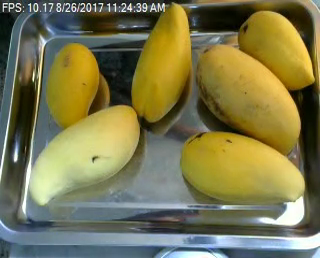Mango: (196, 45, 300, 154), (27, 105, 139, 204), (182, 132, 305, 201), (132, 4, 190, 121), (239, 11, 316, 89), (44, 43, 99, 124)
